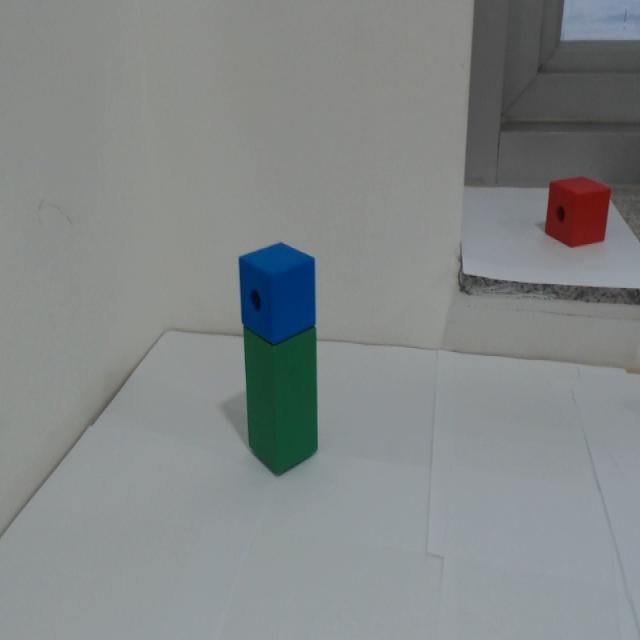cube: (239, 229, 326, 348)
